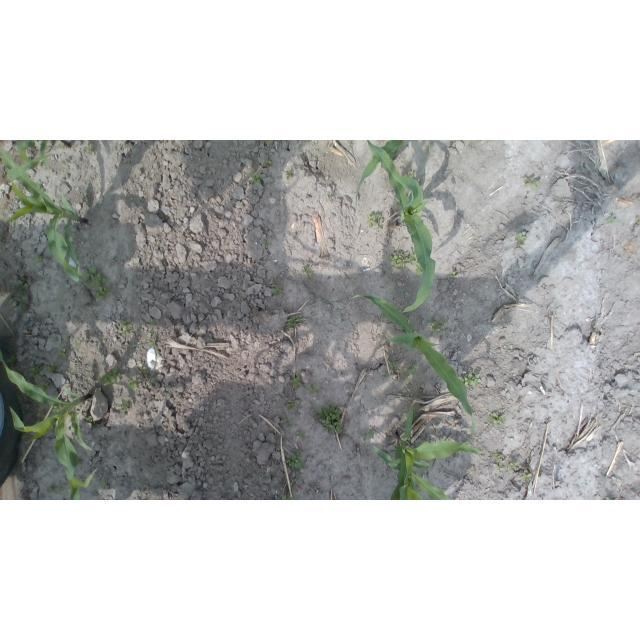Maize: (350, 294, 475, 431), (0, 351, 100, 489), (365, 140, 437, 314), (1, 145, 88, 285), (372, 399, 487, 500), (356, 140, 402, 194), (18, 141, 74, 170), (67, 486, 82, 500)
Weeds: (80, 265, 113, 299), (316, 405, 345, 434), (7, 279, 30, 311), (388, 250, 417, 267), (96, 369, 120, 388), (119, 318, 137, 337), (285, 451, 304, 469), (367, 212, 383, 231), (462, 373, 481, 388), (432, 319, 449, 334), (489, 411, 506, 425), (118, 399, 135, 411), (525, 177, 540, 190), (301, 263, 312, 279), (516, 232, 527, 248), (272, 284, 285, 297), (287, 315, 301, 327), (520, 470, 532, 483), (362, 430, 374, 442), (127, 377, 138, 390), (404, 364, 417, 375), (150, 340, 158, 357), (250, 173, 262, 184), (85, 142, 95, 155), (507, 461, 520, 471), (292, 376, 302, 389), (29, 366, 39, 379), (416, 261, 425, 275), (492, 452, 504, 462), (308, 383, 318, 395), (288, 402, 301, 411), (34, 255, 45, 265), (48, 485, 61, 493), (83, 412, 93, 422), (48, 362, 57, 373), (57, 348, 68, 357), (405, 172, 416, 181), (283, 420, 292, 429), (52, 405, 62, 413), (607, 216, 617, 224), (286, 168, 292, 180), (264, 159, 273, 167), (100, 478, 108, 486), (125, 343, 133, 351), (449, 270, 457, 278), (140, 367, 149, 374), (82, 195, 89, 203), (75, 340, 81, 349), (38, 408, 44, 417), (296, 430, 305, 436), (282, 496, 292, 501), (58, 140, 64, 148), (404, 376, 412, 381), (391, 363, 397, 369), (138, 342, 145, 347), (328, 193, 333, 200), (263, 240, 269, 245), (637, 217, 640, 223)
